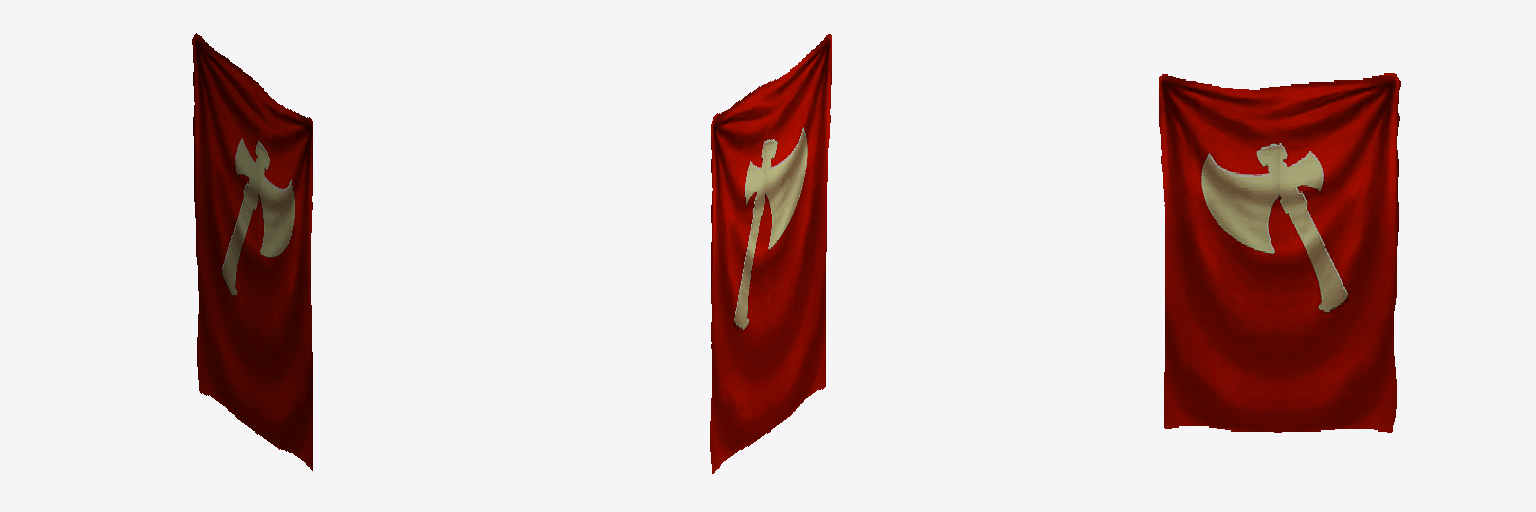
The picture shows the model from 3 angles: view 1: azimuth 30°, elevation 25°; view 2: azimuth 150°, elevation 25°; view 3: azimuth 270°, elevation 25°; orthographic projection.
Parts seen in each view (by area): view 1: warriorbanner01.m2; view 2: warriorbanner01.m2; view 3: warriorbanner01.m2.
Boxes of the visible parts, x1,y1,x2,y2 form: warriorbanner01.m2: [192, 33, 312, 470]; warriorbanner01.m2: [710, 34, 831, 473]; warriorbanner01.m2: [1159, 73, 1400, 432].
Size of the model in its own units: 0.1184 by 6.46 by 3.88.
Materials: 1 (1 with a texture image).